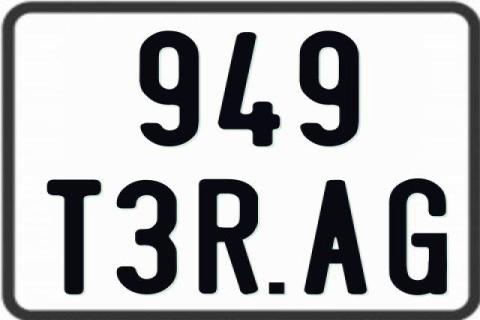0: (298, 30, 363, 150), (218, 31, 284, 149), (115, 178, 177, 298), (137, 29, 199, 147)
A: (302, 178, 369, 296)
G: (386, 177, 450, 297)
R: (196, 177, 260, 293)
T: (46, 179, 104, 295)
